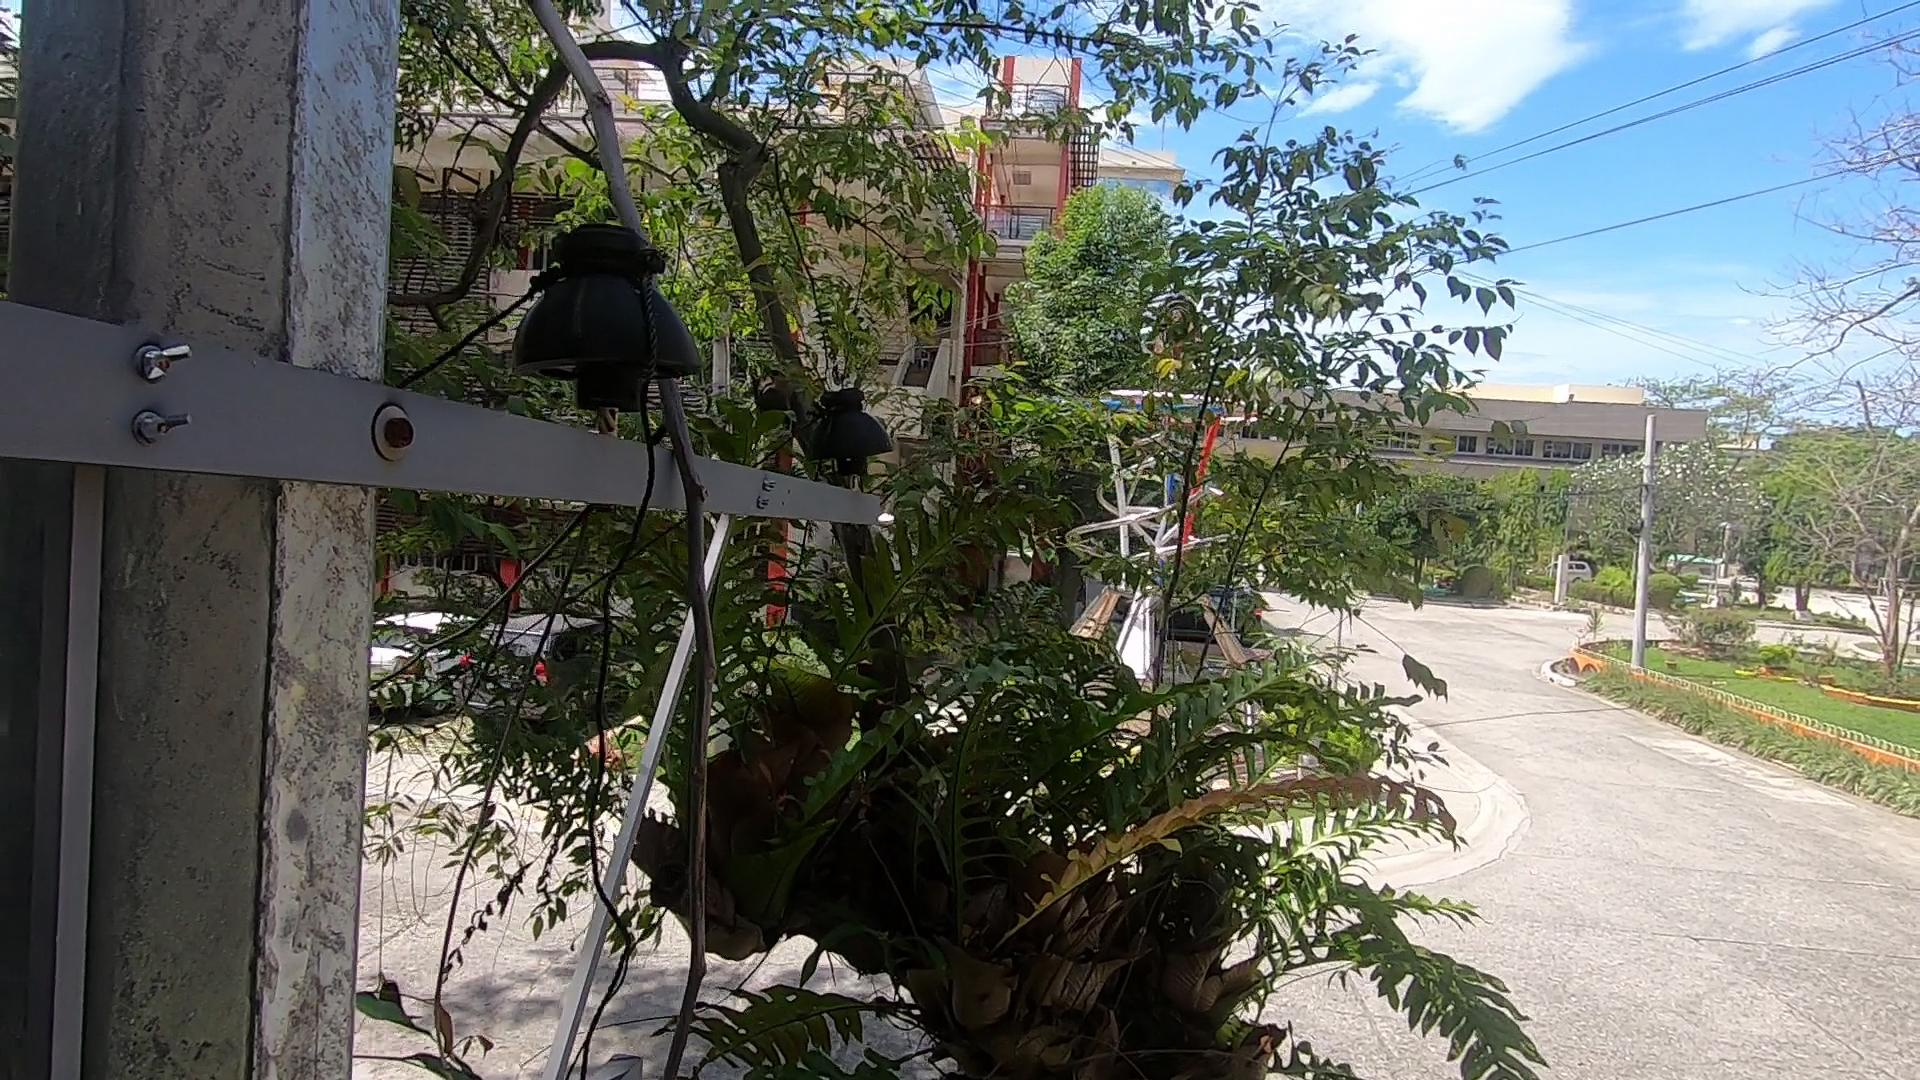tree branch: (444, 3, 783, 1080)
